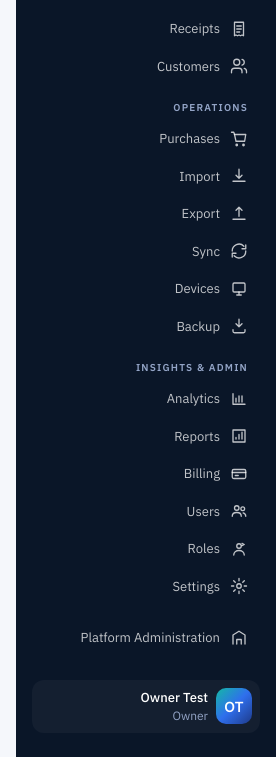
Test: app shell smoke › exposes the user menu with platform admin and logout
(page scrolled)
Click the button with aria-label "Account menu" at (146, 706), box [32, 680, 260, 733]
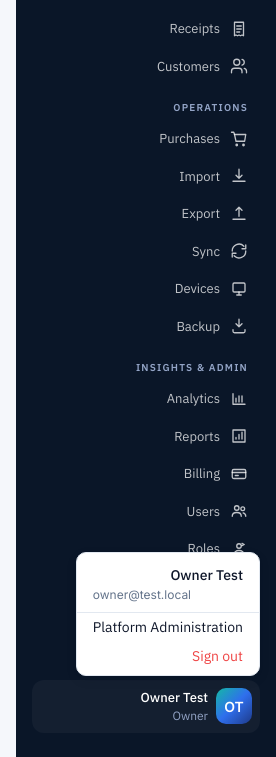
Expected: the menu item "Sign out" is shown, [77, 642, 259, 670]
